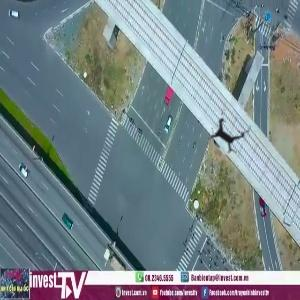drone: (190, 96, 267, 173)
